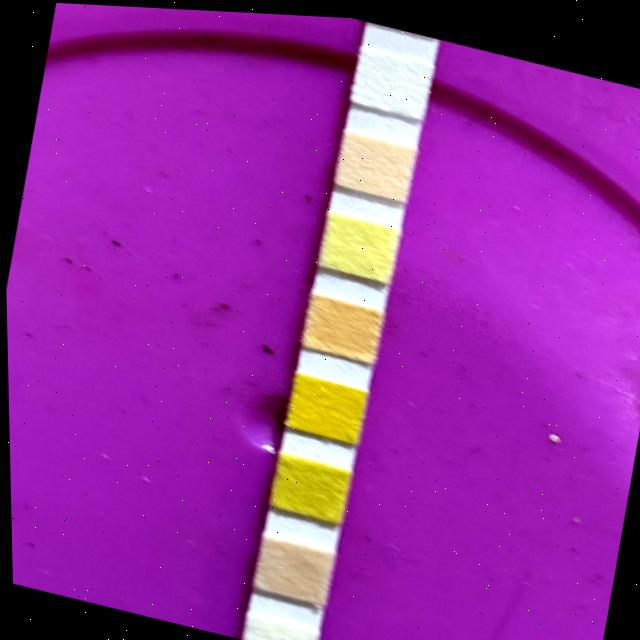Bilirubin: (241, 612, 312, 640)
Blood: (287, 374, 362, 439)
Ketone: (253, 537, 326, 600)
Nitrite: (352, 46, 433, 116)
Protein: (317, 211, 398, 279)
SpGravity: (268, 454, 345, 519)
Urobilinogen: (336, 129, 414, 198)
pH: (303, 296, 379, 359)
